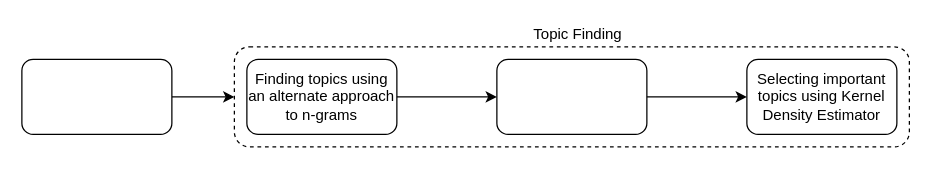
Some shapes in this 931 by 169 pixel diagram are drawn without their labels. Each missing label, with the centre of its shape:
"Transcript" goes at point 96,96.
"Treating redundancy & Lemmatizing topics" goes at point 571,96.
